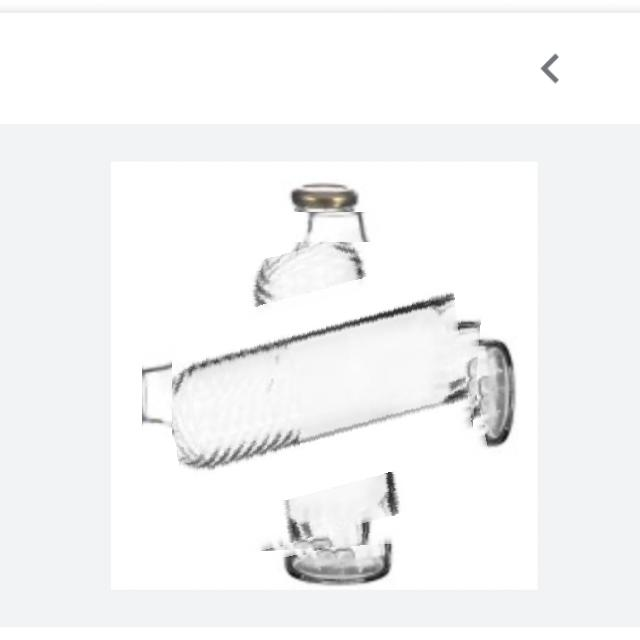recyclable: (172, 242, 488, 558)
